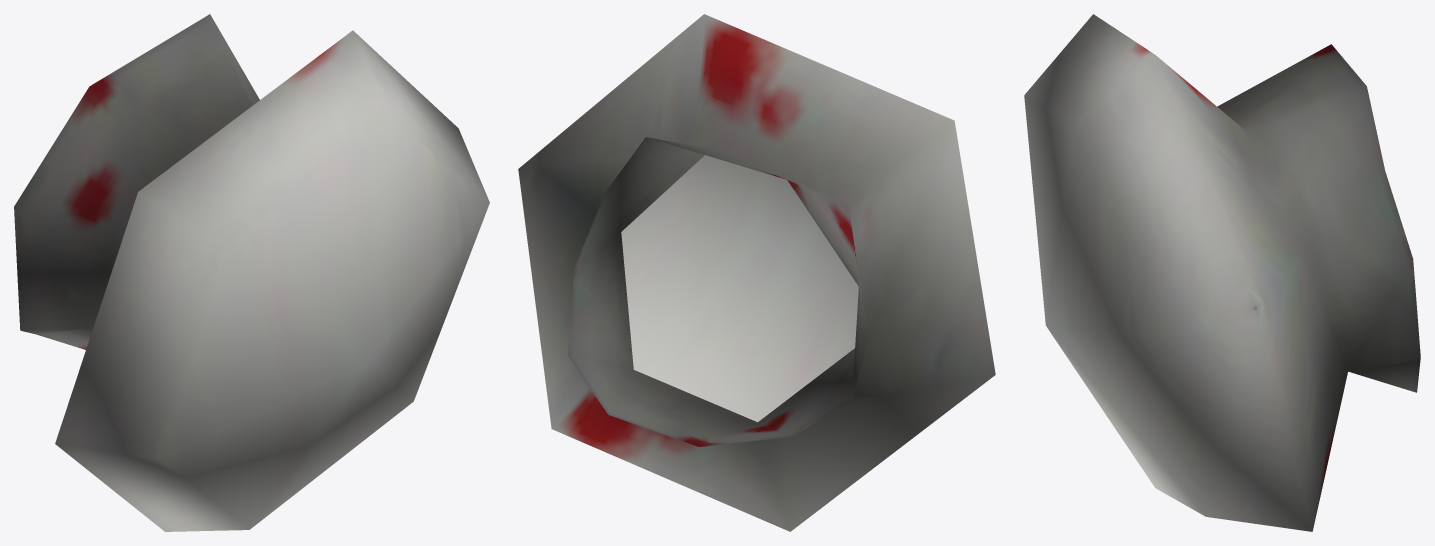
The model's file is Zombie_Little_Cook_Cap_ed3aa4a2__Zombie_Little_Cook_51f97baf_c1f257.obj.
3 views of the same model, side by side, from view 1: azimuth 30°, elevation 25°; view 2: azimuth 150°, elevation 25°; view 3: azimuth 270°, elevation 25° (orthographic). The views are drawn at different scales.
Bounding box in the file's own units: 0.459 × 0.4734 × 0.3321.
1 material, 1 textured.
